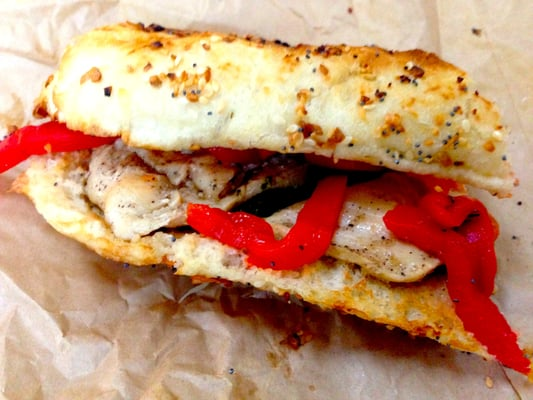soup: (1, 19, 527, 389)
